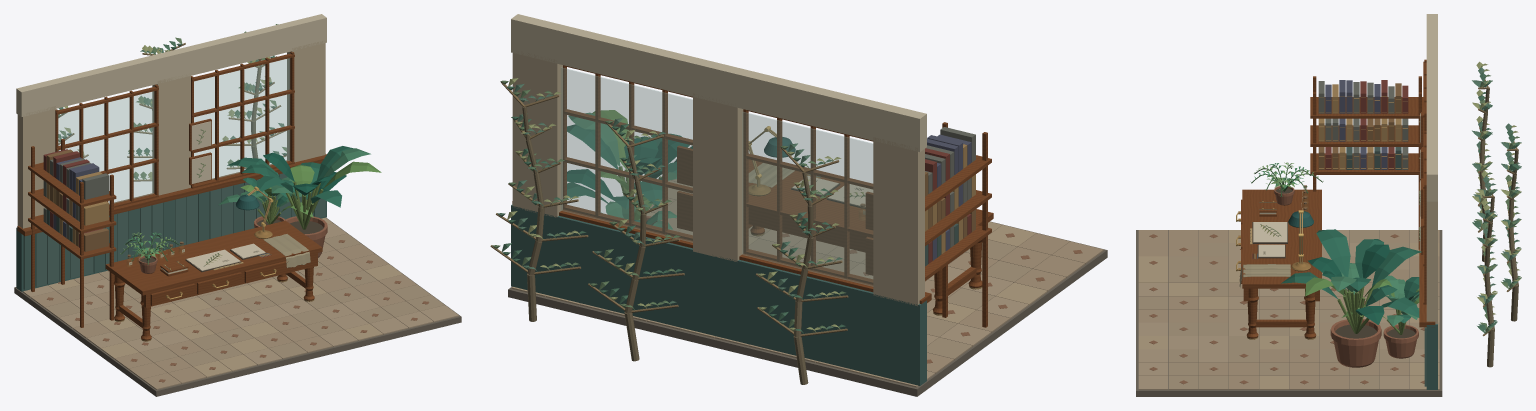
File: botanical_illustration_room.glb
3 renders of one model, left to right at view 1: azimuth 30°, elevation 25°; view 2: azimuth 150°, elevation 25°; view 3: azimuth 270°, elevation 25°, orthographic. The views are drawn at different scales.
Parts seen in each view (by area): view 1: Plaster, stone, ceramics and stationery, Quarter-sawn workbench and frames, Window and specimen glass, Joinery, brass and measuring instruments; view 2: Plaster, stone, ceramics and stationery, Window and specimen glass, Quarter-sawn workbench and frames, Joinery, brass and measuring instruments; view 3: Plaster, stone, ceramics and stationery, Quarter-sawn workbench and frames, Joinery, brass and measuring instruments.
Boxes of the visible parts, x1=… form: Plaster, stone, ceramics and stationery: x1=14, y1=14, x2=461, y2=396; Quarter-sawn workbench and frames: x1=17, y1=51, x2=326, y2=341; Window and specimen glass: x1=58, y1=58, x2=289, y2=266; Joinery, brass and measuring instruments: x1=58, y1=43, x2=314, y2=341; Plaster, stone, ceramics and stationery: x1=492, y1=14, x2=1107, y2=396; Window and specimen glass: x1=561, y1=67, x2=872, y2=286; Quarter-sawn workbench and frames: x1=512, y1=65, x2=993, y2=327; Joinery, brass and measuring instruments: x1=490, y1=82, x2=982, y2=384; Plaster, stone, ceramics and stationery: x1=1136, y1=14, x2=1521, y2=396; Quarter-sawn workbench and frames: x1=1241, y1=59, x2=1435, y2=339; Joinery, brass and measuring instruments: x1=1236, y1=79, x2=1518, y2=367.
Bounding box in the file's own units: 5.46 × 3.48 × 5.48.
4 materials, 1 textured.
